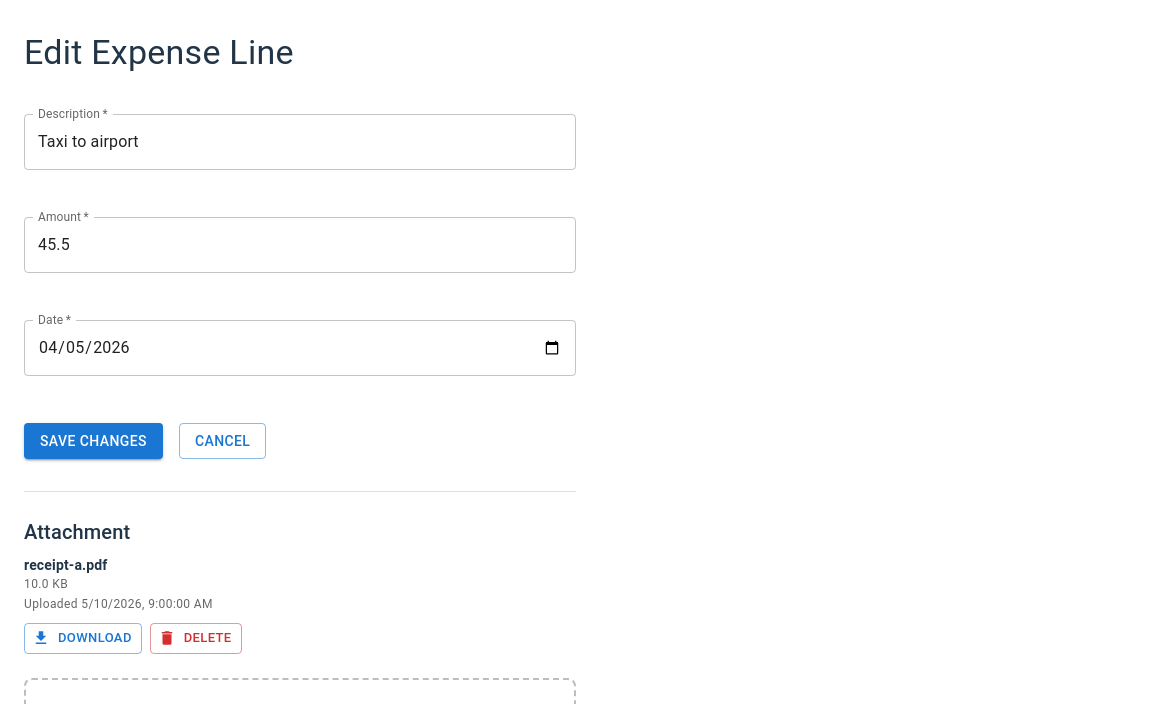
Test: ExpenseLineDetailPage — attachment integration › delete flow › removes attachment display after delete confirmation
Expected: the text with test id "attachment-filename" reads "receipt-a.pdf", [24,557,108,573]
Note: Click delete
What coordinates should you click on to do the following:
click the button with test id "delete-button"
I would click on:
 (196, 638)
Its box is [150,623,242,654].
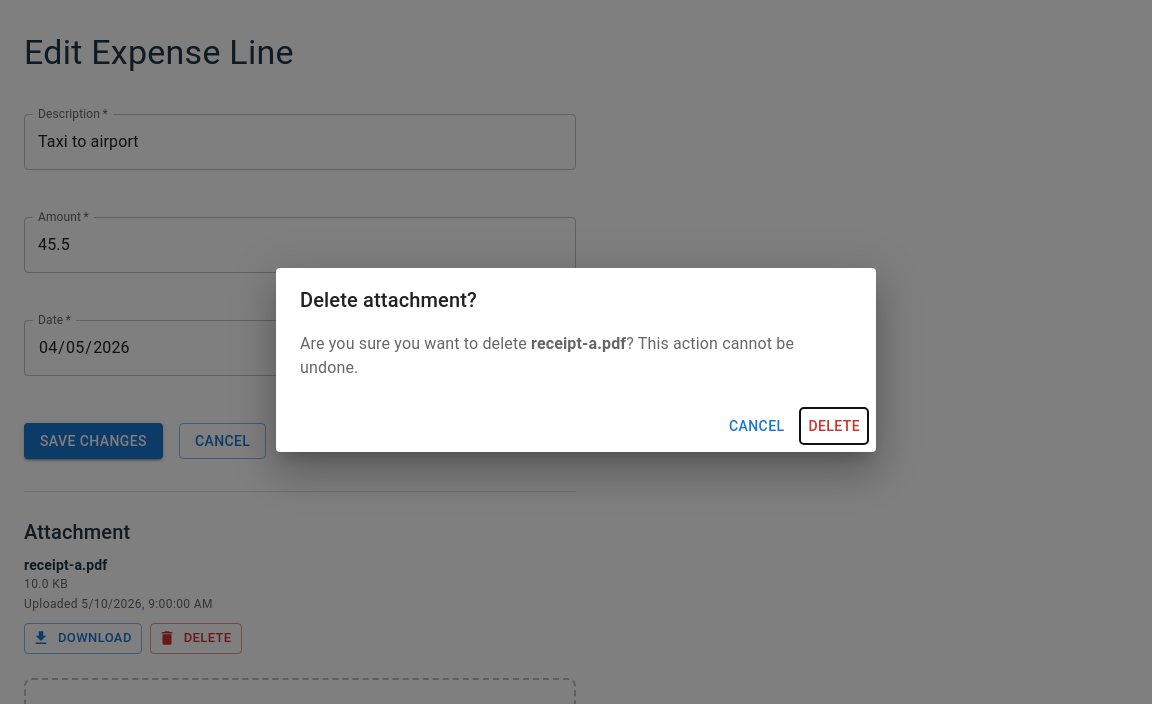
Note: Confirm delete
What coordinates should you click on to do the following:
click the button with test id "confirm-delete-button"
I would click on:
 (834, 426)
Its box is [800,408,868,444].
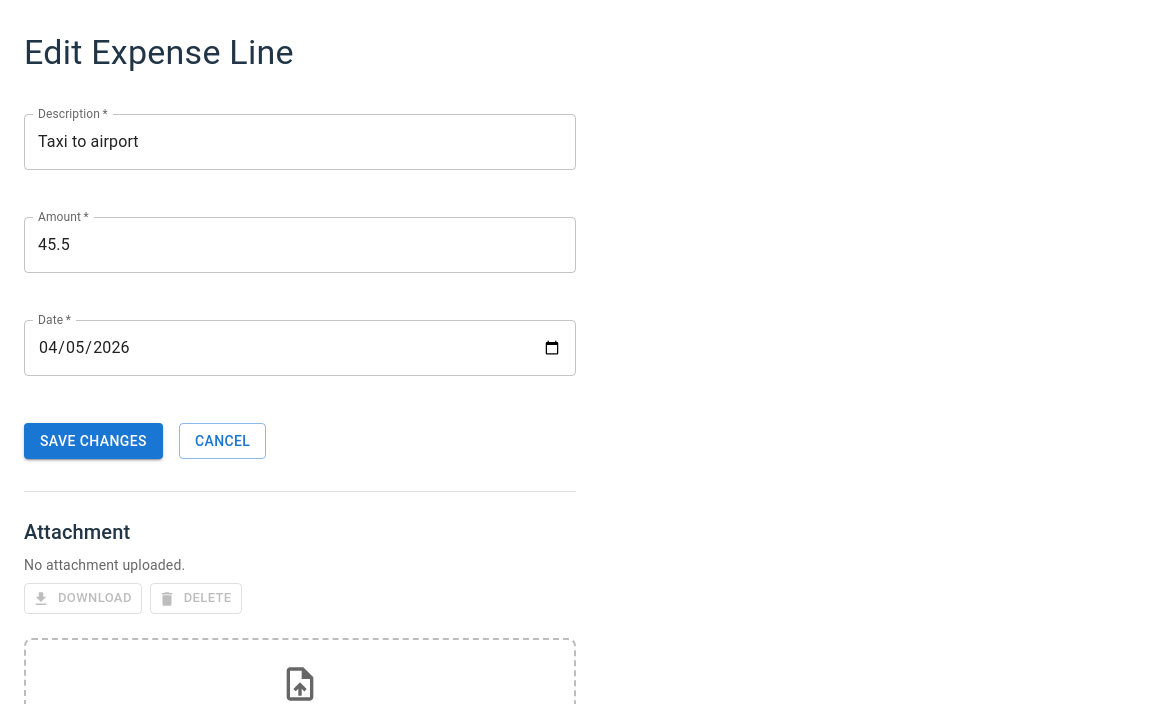
Result: the text with test id "attachment-filename" is gone
